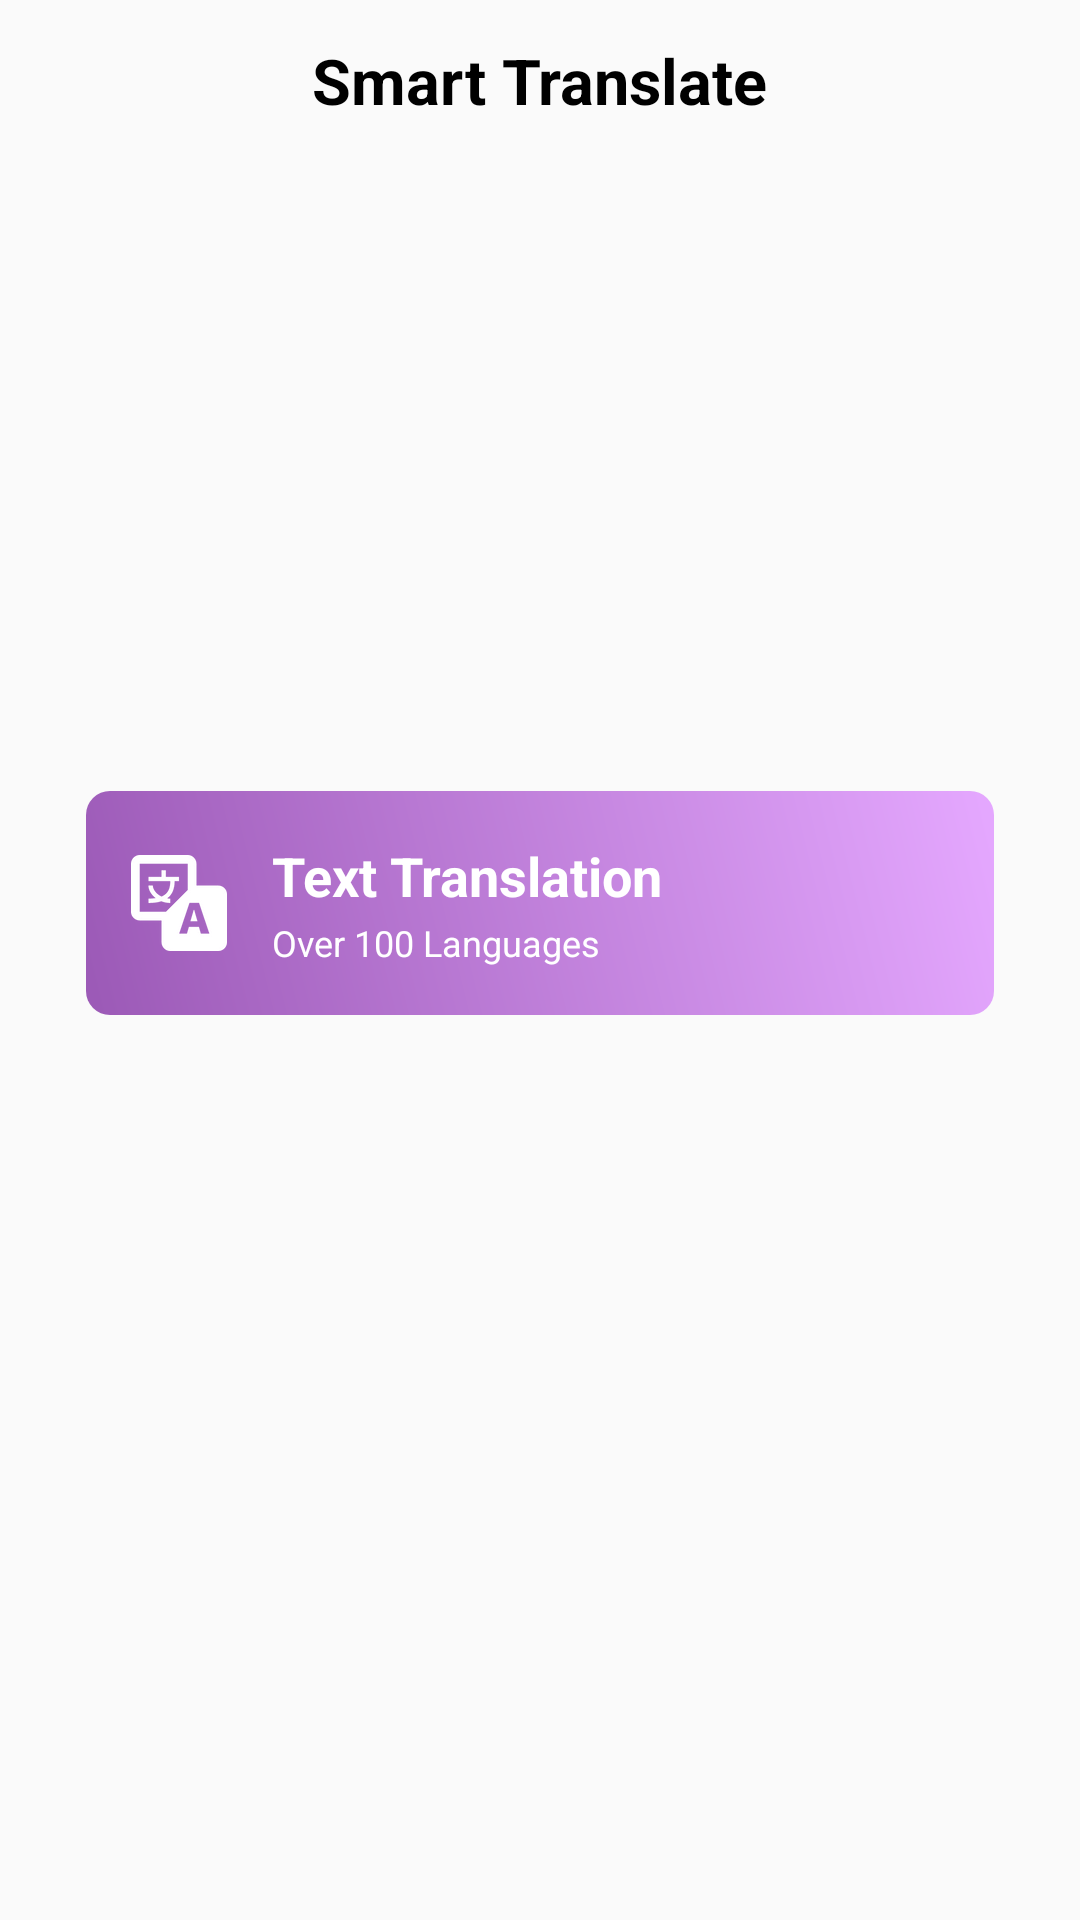

Icons on this 1080*1920 Android screen, each with its box as bbox(x1, y1, x2, y2):
text translate: bbox(131, 855, 227, 951)
